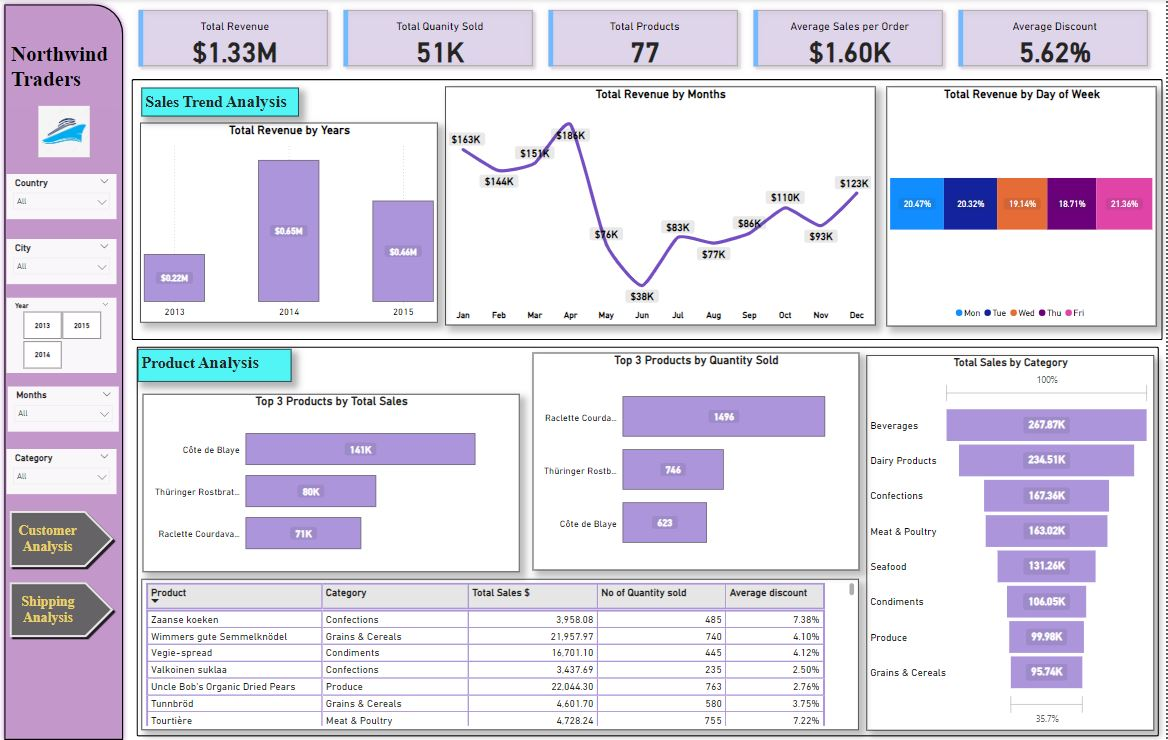

This screenshot's page, from the dashboard's own definition file:
{"tool":"powerbi","page":{"name":"Product Analysis","canvas":[1800,1150],"ordinal":0},"visuals":[{"type":"shape","box":[0,0,199.6,1150.4],"z":0,"group":"g3"},{"type":"shape","box":[204.6,122.6,1589.7,402.7],"z":0,"group":"g2"},{"type":"shape","box":[212.8,535.5,1576.2,601.2],"z":0,"group":"g1"},{"type":"textbox","box":[214.7,538.6,237,50.1],"z":250,"group":"g1"},{"type":"barChart","title":"Top 3 Products by Quantity Sold","fields":{"Y":["Sum(order_details.quantity)"],"Category":["products.productName"]},"box":[824.1,546.1,502.9,335.3],"z":500,"group":"g1"},{"type":"textbox","box":[220.8,136.1,242.8,44.3],"z":1000,"group":"g2"},{"type":"barChart","title":"Top 3 Products by Total Sales","fields":{"Y":["Sum(order_details.Total Price)"],"Category":["products.productName"]},"box":[222.6,609,581,274.2],"z":1000,"group":"g1"},{"type":"cardVisual","fields":{"Data":["Measure_table.Total Revenue","Measure_table.Total Quanity Sold","Measure_table.Total_Products","Measure_table.Avg_sales_by_order","Measure_table.Average discount"]},"box":[199.1,0,1590.7,121.6],"z":2000},{"type":"lineChart","fields":{"Y":["Measure_table.Total Revenue"],"Category":["Date.Months"]},"box":[689,134.8,662.9,368],"z":2000,"group":"g2"},{"type":"funnel","title":"Total Sales by Category","fields":{"Category":["categories.categoryName"],"Y":["Sum(order_details.Total Price)"]},"box":[1338.6,549.9,443.2,578.1],"z":2000,"group":"g1"},{"type":"clusteredColumnChart","fields":{"Category":["Date.Years"],"Y":["Measure_table.Total Revenue"]},"box":[218.9,190.7,458.6,308.3],"z":3000,"group":"g2"},{"type":"slicer","fields":{"Values":["customers.city"]},"box":[11.6,370,169.6,69.4],"z":3000,"group":"g3"},{"type":"tableEx","fields":{"Values":["products.productName","categories.categoryName","Sum(order_details.Total Price)","order_details.quantity","Measure_table.Average discount"]},"box":[220.7,894.7,1105.2,232.9],"z":3000,"group":"g1"},{"type":"hundredPercentStackedBarChart","fields":{"Y":["Measure_table.Total Revenue"],"Series":["Date.Day of Week"]},"box":[1369.3,134.8,416.2,370],"z":4000,"group":"g2"},{"type":"slicer","fields":{"Values":["customers.country"]},"box":[11.6,269.8,169.6,69.4],"z":4000,"group":"g3"},{"type":"slicer","fields":{"Values":["Date.Years"]},"box":[11.6,460.5,169.6,115.6],"z":5000,"group":"g3"},{"type":"slicer","fields":{"Values":["Date.Months"]},"box":[13.5,597.4,171.5,69.4],"z":6000,"group":"g3"},{"type":"textbox","box":[13.5,61.7,171.5,104.1],"z":7000,"group":"g3"},{"type":"actionButton","box":[11.6,784.3,169.6,96.3],"z":8000,"group":"g3"},{"type":"actionButton","box":[11.6,894.1,169.6,94.4],"z":9000,"group":"g3"},{"type":"group","id":"g1","title":"Group 1","box":[212.8,535.5,1576.2,601.2],"z":10000},{"type":"group","id":"g2","title":"Group 2","box":[204.6,122.6,1589.7,402.7],"z":11000},{"type":"image","box":[13.5,159.9,173.4,88.6],"z":12000,"group":"g3"},{"type":"slicer","fields":{"Values":["categories.categoryName"]},"box":[11.6,693.7,169.6,69.4],"z":13000,"group":"g3"},{"type":"group","id":"g3","title":"Group 3","box":[0,0,199.6,1150.4],"z":13001}]}

Visuals, with their boxes in screenshot pixels (x1, y1, x2, y2), scaled from the page's 1800x1150 canvas onto the 1168x740 screenshot:
shape: locate(0, 0, 130, 739)
shape: locate(133, 79, 1164, 338)
shape: locate(138, 345, 1161, 731)
textbox: locate(139, 347, 293, 379)
"Top 3 Products by Quantity Sold" barChart: locate(535, 351, 861, 567)
textbox: locate(143, 88, 301, 116)
"Top 3 Products by Total Sales" barChart: locate(144, 392, 521, 568)
cardVisual - Measure_table.Total Revenue x Measure_table.Total Quanity Sold: locate(129, 0, 1161, 78)
lineChart - Measure_table.Total Revenue x Date.Months: locate(447, 87, 877, 324)
"Total Sales by Category" funnel: locate(869, 354, 1156, 726)
clusteredColumnChart - Date.Years x Measure_table.Total Revenue: locate(142, 123, 440, 321)
slicer - customers.city: locate(8, 238, 118, 283)
tableEx - products.productName x categories.categoryName: locate(143, 576, 860, 726)
hundredPercentStackedBarChart - Measure_table.Total Revenue x Date.Day of Week: locate(889, 87, 1159, 325)
slicer - customers.country: locate(8, 174, 118, 218)
slicer - Date.Years: locate(8, 296, 118, 371)
slicer - Date.Months: locate(9, 384, 120, 429)
textbox: locate(9, 40, 120, 107)
actionButton: locate(8, 505, 118, 567)
actionButton: locate(8, 575, 118, 636)
"Group 1" group: locate(138, 345, 1161, 731)
"Group 2" group: locate(133, 79, 1164, 338)
image: locate(9, 103, 121, 160)
slicer - categories.categoryName: locate(8, 446, 118, 491)
"Group 3" group: locate(0, 0, 130, 739)
